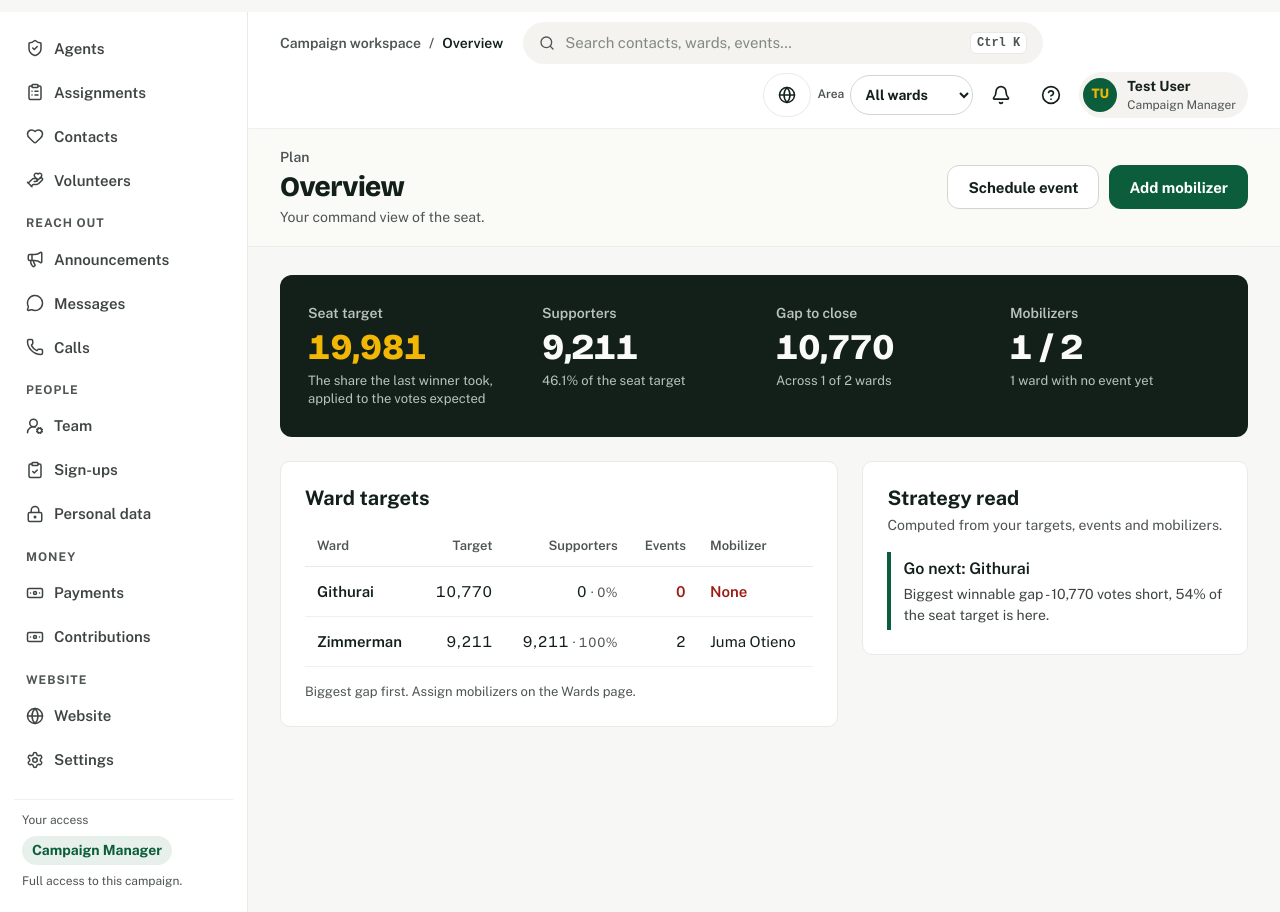
Test: payments › shows the practice-mode banner when releases move no money
(page scrolled)
Click the link "Payments" at (75, 593), box x1=26 y1=584 x2=124 y2=602
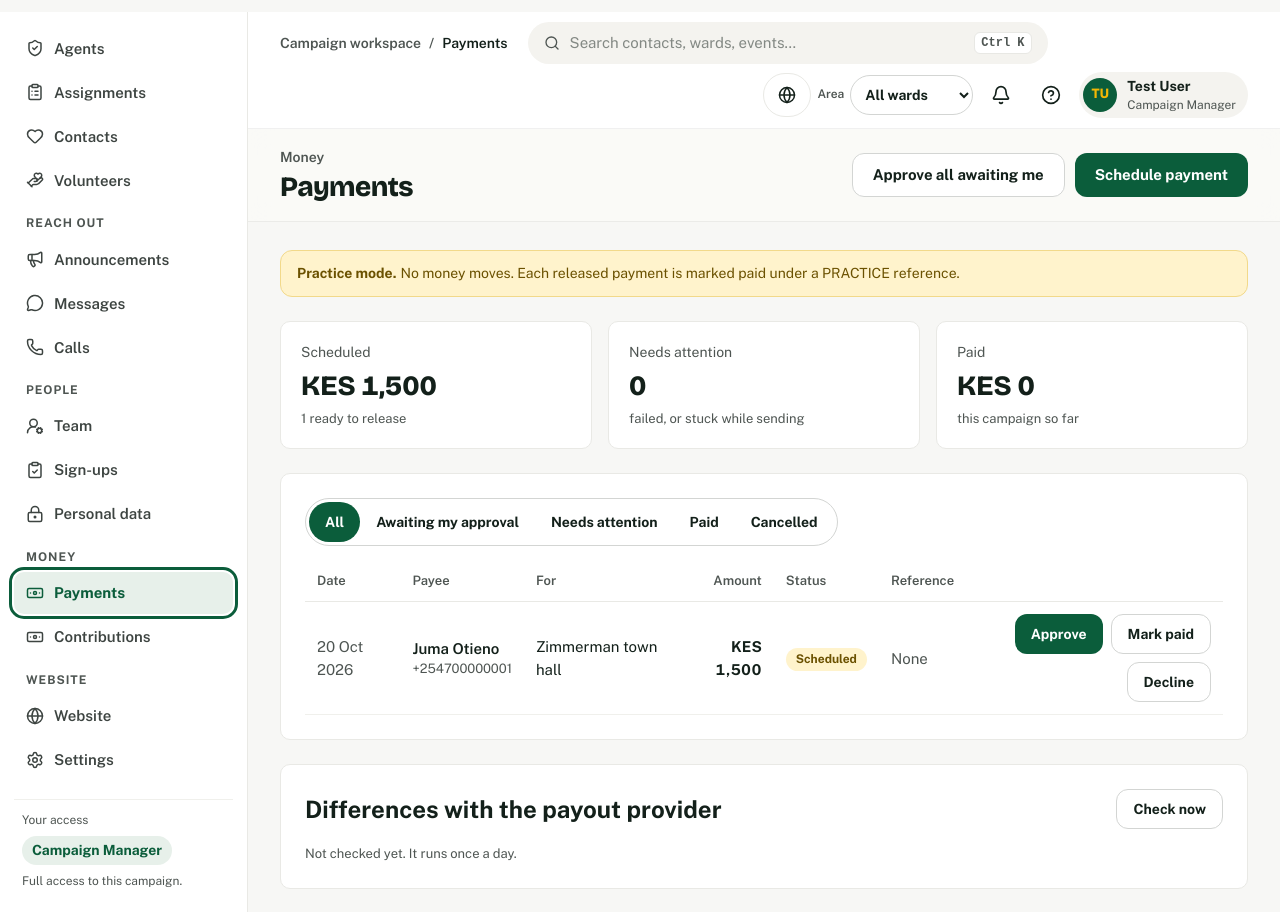
Expected: the text "Juma Otieno" is shown, x1=412 y1=637 x2=512 y2=660
Now the text "Practice mode." is shown, box x1=297 y1=263 x2=396 y2=284
